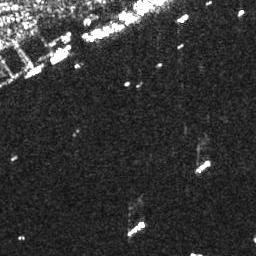ship: (22, 63, 43, 78), (127, 222, 146, 237), (50, 50, 70, 64), (193, 159, 211, 174), (175, 13, 189, 23), (237, 8, 245, 17), (74, 62, 84, 69), (10, 154, 18, 162), (202, 1, 214, 6), (177, 43, 184, 50), (124, 80, 131, 87), (17, 235, 25, 241), (157, 63, 164, 68)
